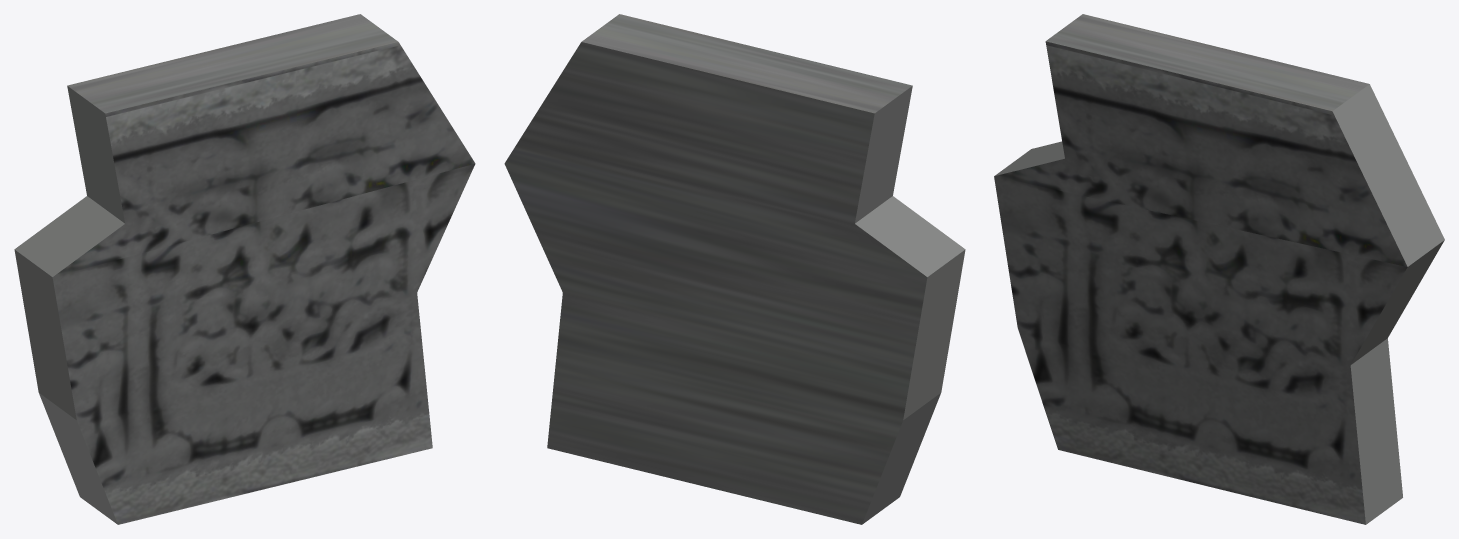
The model's file is Relief4.fbx.
The picture shows the model from 3 angles, left to right: view 1: azimuth 30°, elevation 25°; view 2: azimuth 150°, elevation 25°; view 3: azimuth 330°, elevation 25°; orthographic projection. The views are drawn at different scales.
Parts seen in each view (by area): view 1: Cube.012; view 2: Cube.012; view 3: Cube.012.
Boxes of the visible parts, x1,y1,x2,y2 form: Cube.012: [14, 14, 475, 524]; Cube.012: [504, 14, 965, 524]; Cube.012: [994, 14, 1444, 524].
Size of the model in its own units: 256 by 240 by 40.
